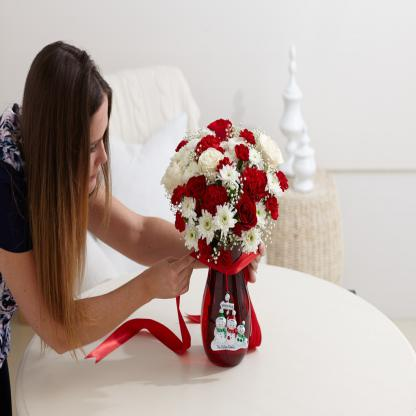vase: (200, 240, 251, 368)
